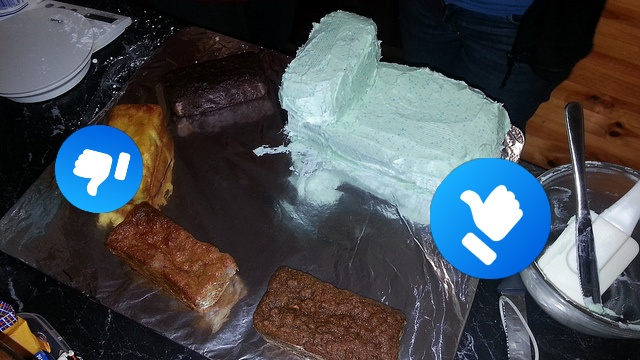like: (430, 158, 551, 279), (55, 125, 143, 213)
